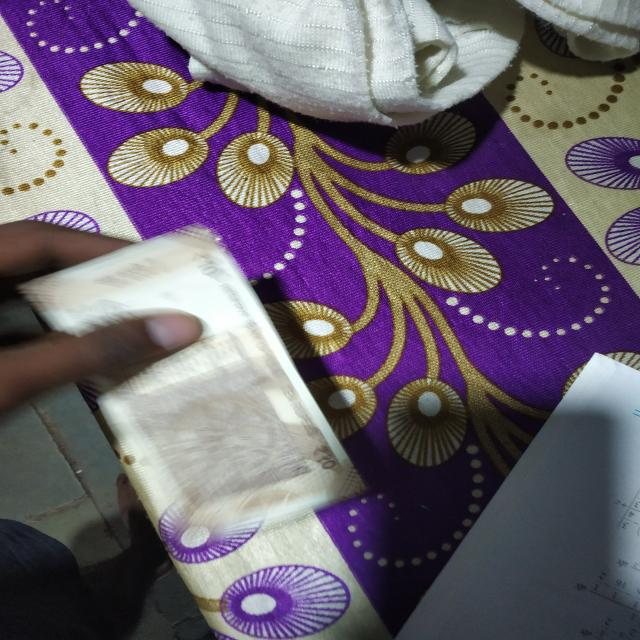10rs: (35, 257, 372, 534)
